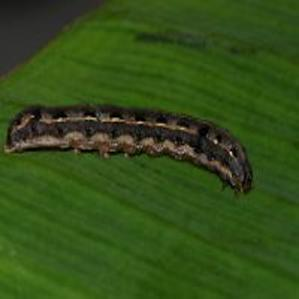Tobacco cutworm: (1, 79, 276, 224)
